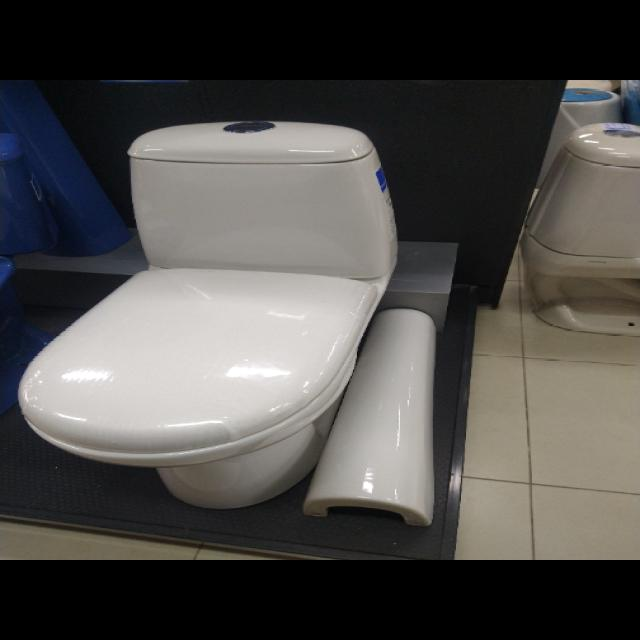toilet: (12, 112, 412, 514)
